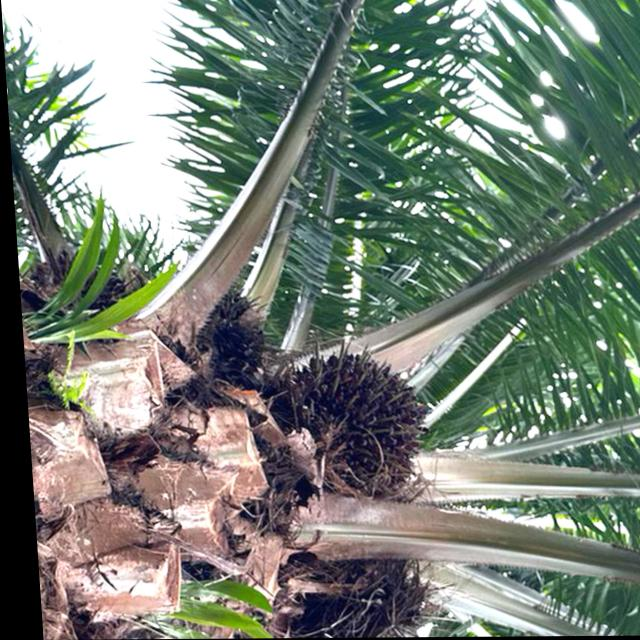almost: (269, 339, 436, 508)
